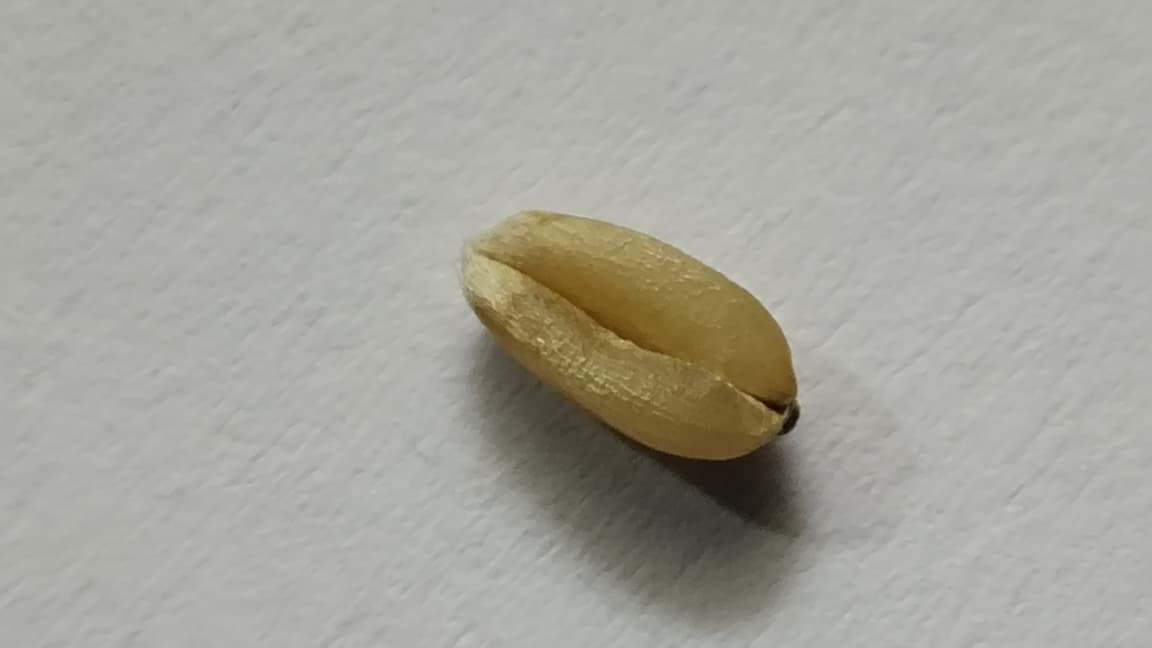healthy: (460, 210, 798, 459)
